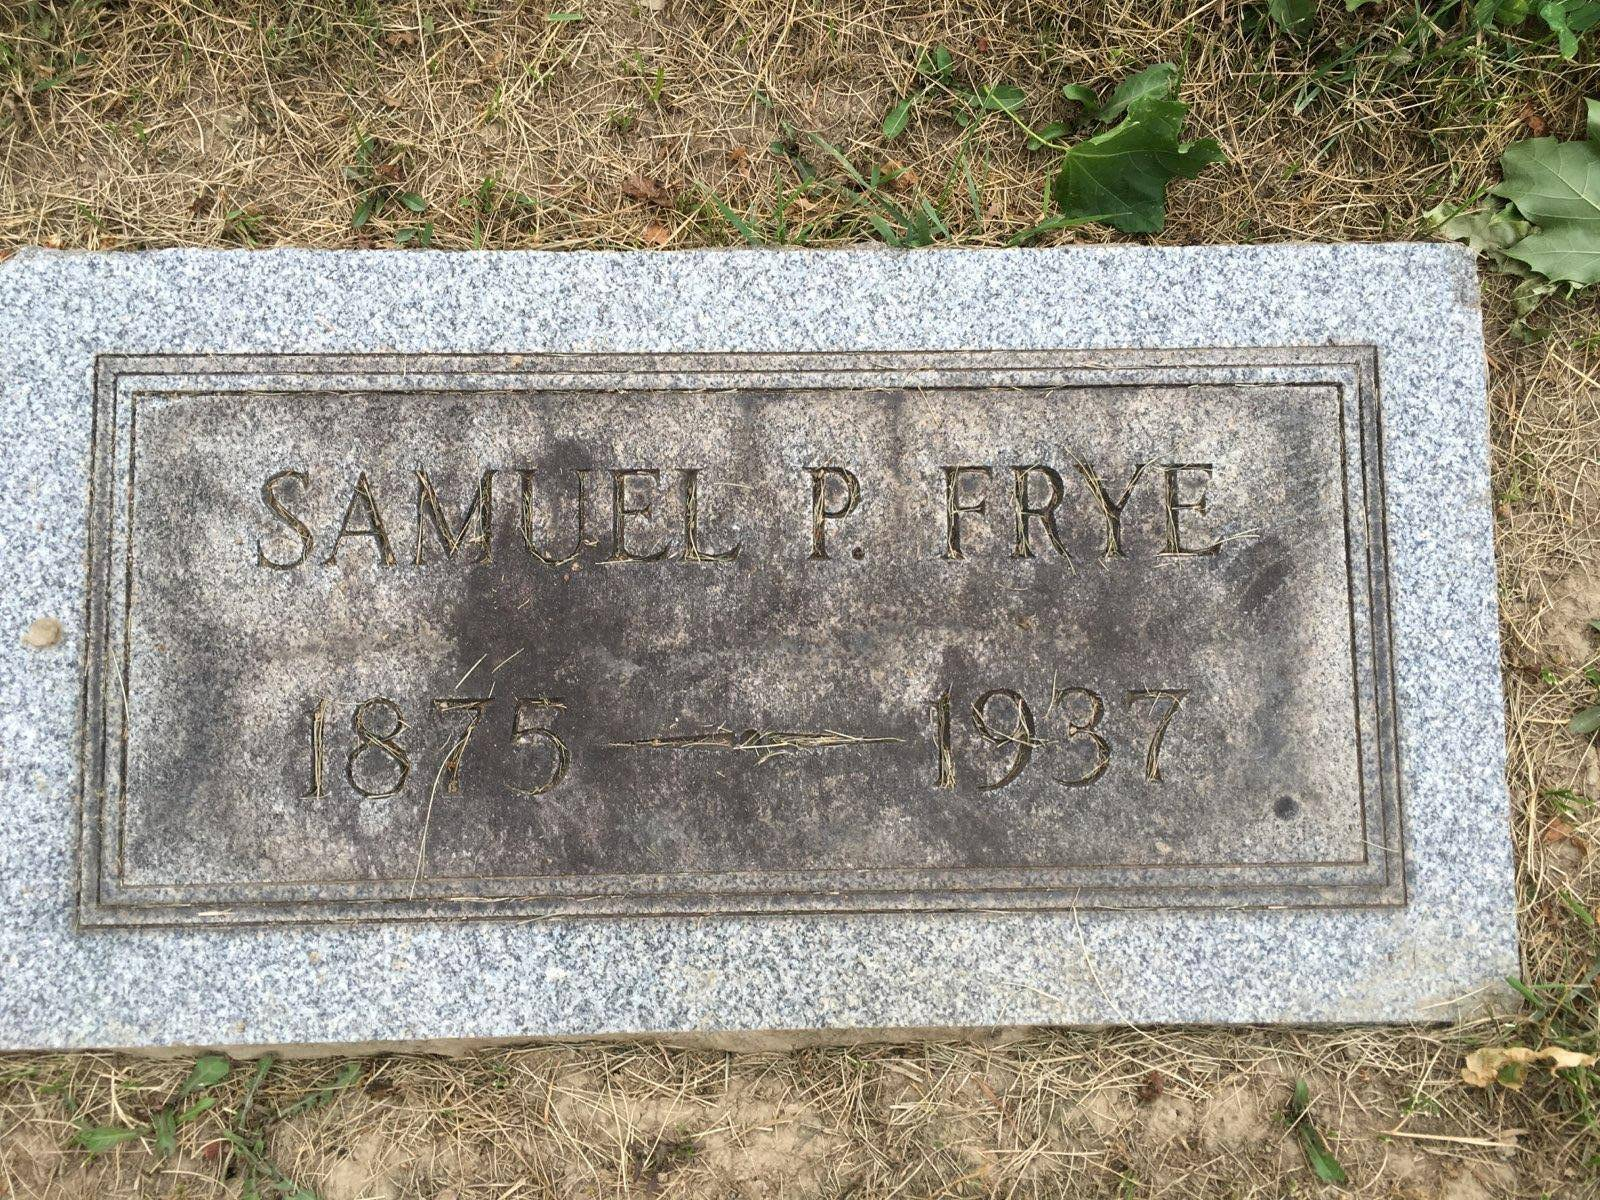flat: (0, 228, 1519, 1047)
